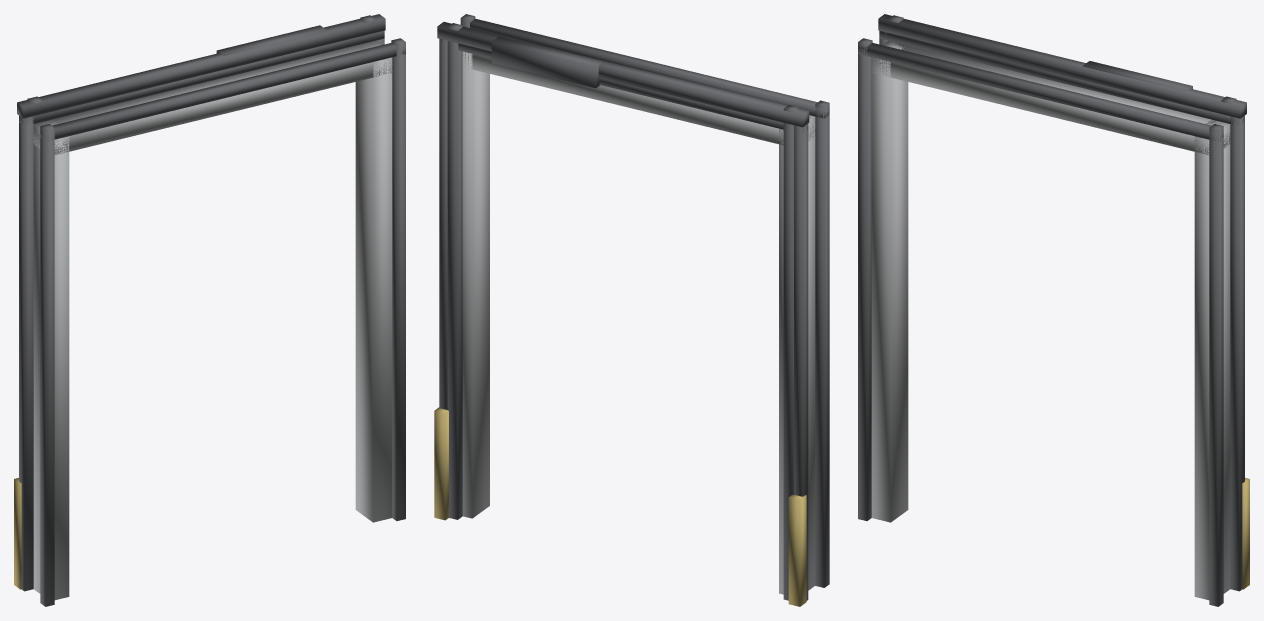
Rendered from bay_opening_service_bay_w300_h420_d30.glb.
The picture shows the model from 3 angles, left to right: view 1: azimuth 30°, elevation 25°; view 2: azimuth 150°, elevation 25°; view 3: azimuth 330°, elevation 25°; orthographic projection.
Visible parts, largest first — view 1: world; view 2: world; view 3: world.
Boxes of the visible parts, x1,y1,x2,y2 form: world: [14, 14, 405, 606]; world: [434, 14, 829, 606]; world: [858, 14, 1249, 606].
Bounding box in the file's own units: 3.58 × 4.59 × 0.522.
